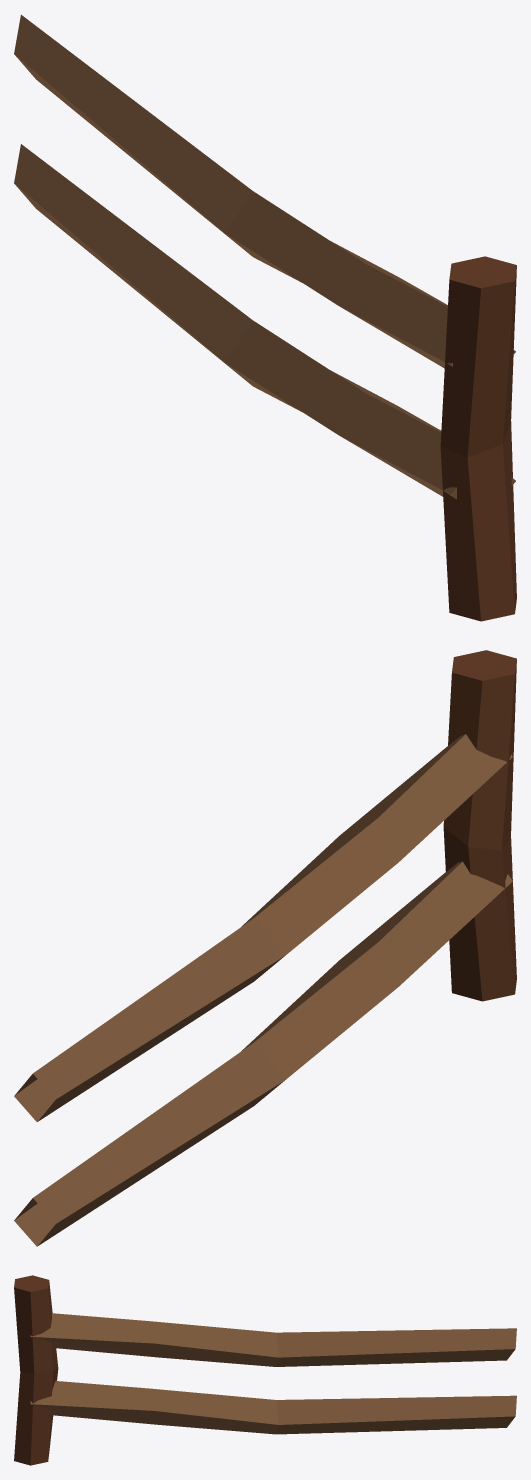
Rendered from Fence#2.fbx.
3 renders of one model, top to bottom at view 1: azimuth 30°, elevation 25°; view 2: azimuth 150°, elevation 25°; view 3: azimuth 270°, elevation 25°, orthographic. The views are drawn at different scales.
Parts seen in each view (by area): view 1: Cylinder.003; view 2: Cylinder.003; view 3: Cylinder.003.
Part boxes in pixels (left/top/right/bottom): Cylinder.003: left=14, top=14, right=516, bottom=621; Cylinder.003: left=14, top=650, right=516, bottom=1246; Cylinder.003: left=14, top=1275, right=516, bottom=1465.
Bounding box in the file's own units: 60.9 × 285 × 748.
